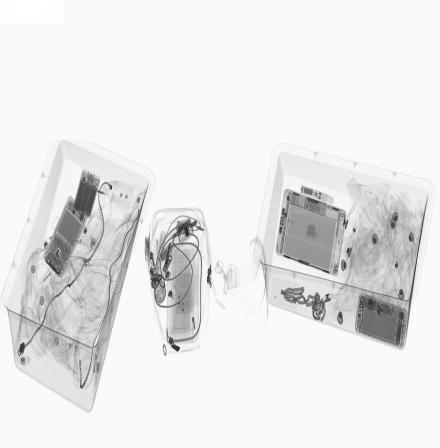Powerbank: (73, 167, 102, 219)
